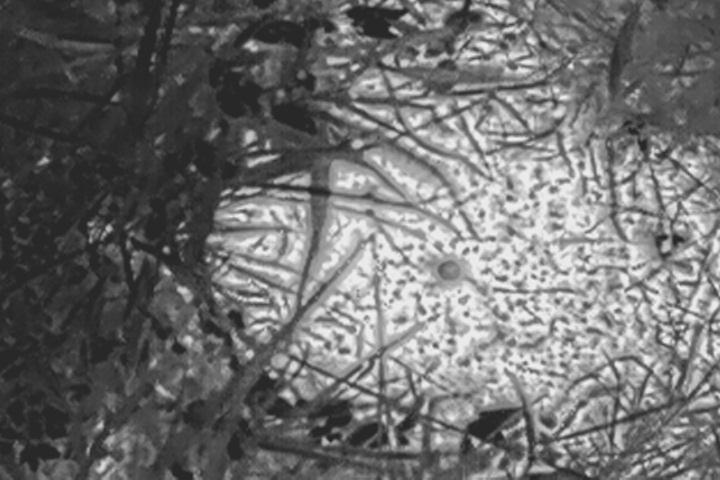landmine: (209, 85, 713, 479)
